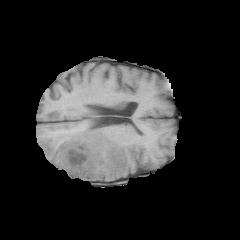glioma: (42, 129, 128, 180)
